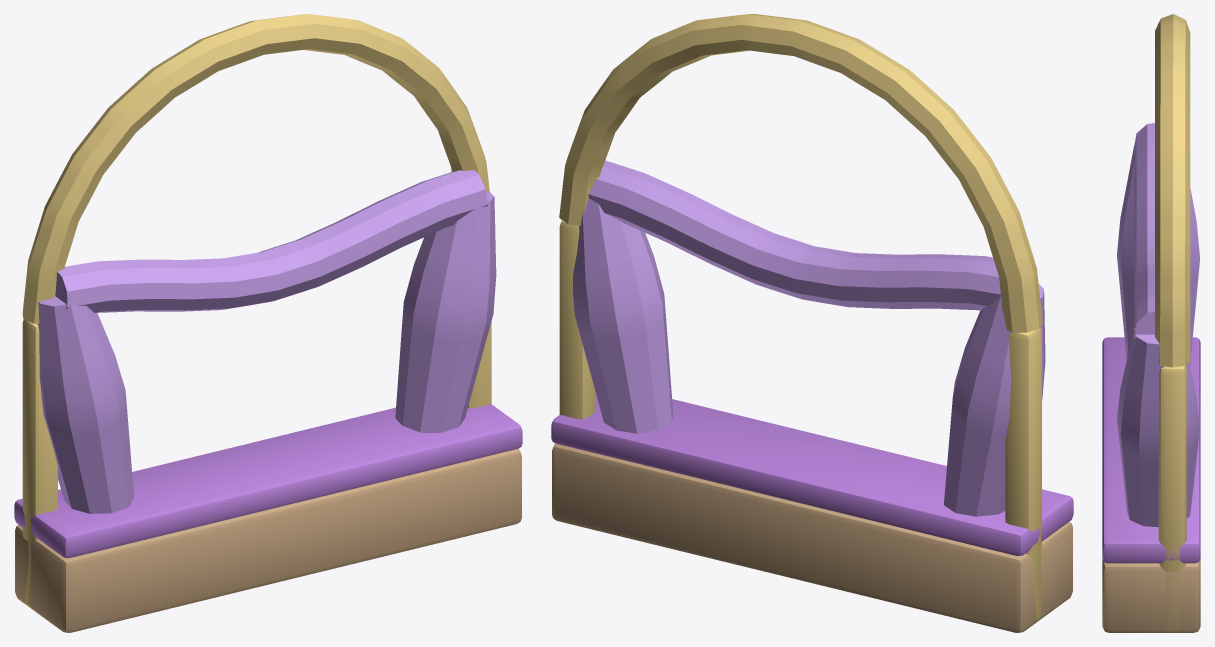
Rendered from DisplayWindow.fbx.
3 renders of one model, left to right at view 1: azimuth 30°, elevation 25°; view 2: azimuth 150°, elevation 25°; view 3: azimuth 270°, elevation 25°, orthographic. The views are drawn at different scales.
Visible parts, largest first — view 1: DisplayWindow; view 2: DisplayWindow; view 3: DisplayWindow.
Part boxes in pixels (x1=…): DisplayWindow: x1=14, y1=14, x2=522, y2=632; DisplayWindow: x1=551, y1=14, x2=1073, y2=632; DisplayWindow: x1=1102, y1=14, x2=1200, y2=632.
Size of the model in its own units: 7.1 by 7.75 by 1.4.
